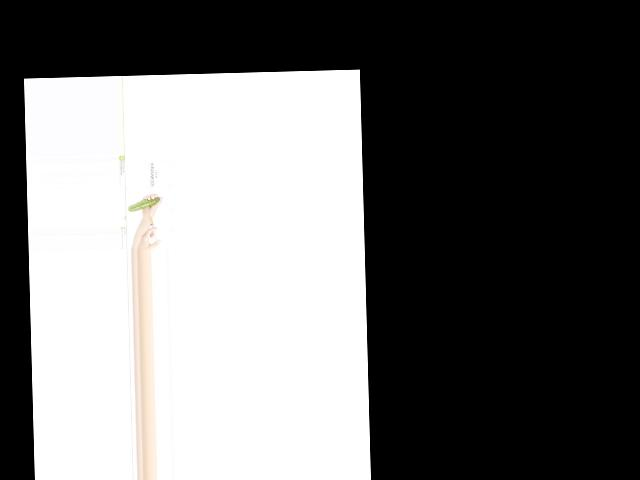cucumber: (127, 196, 160, 212)
